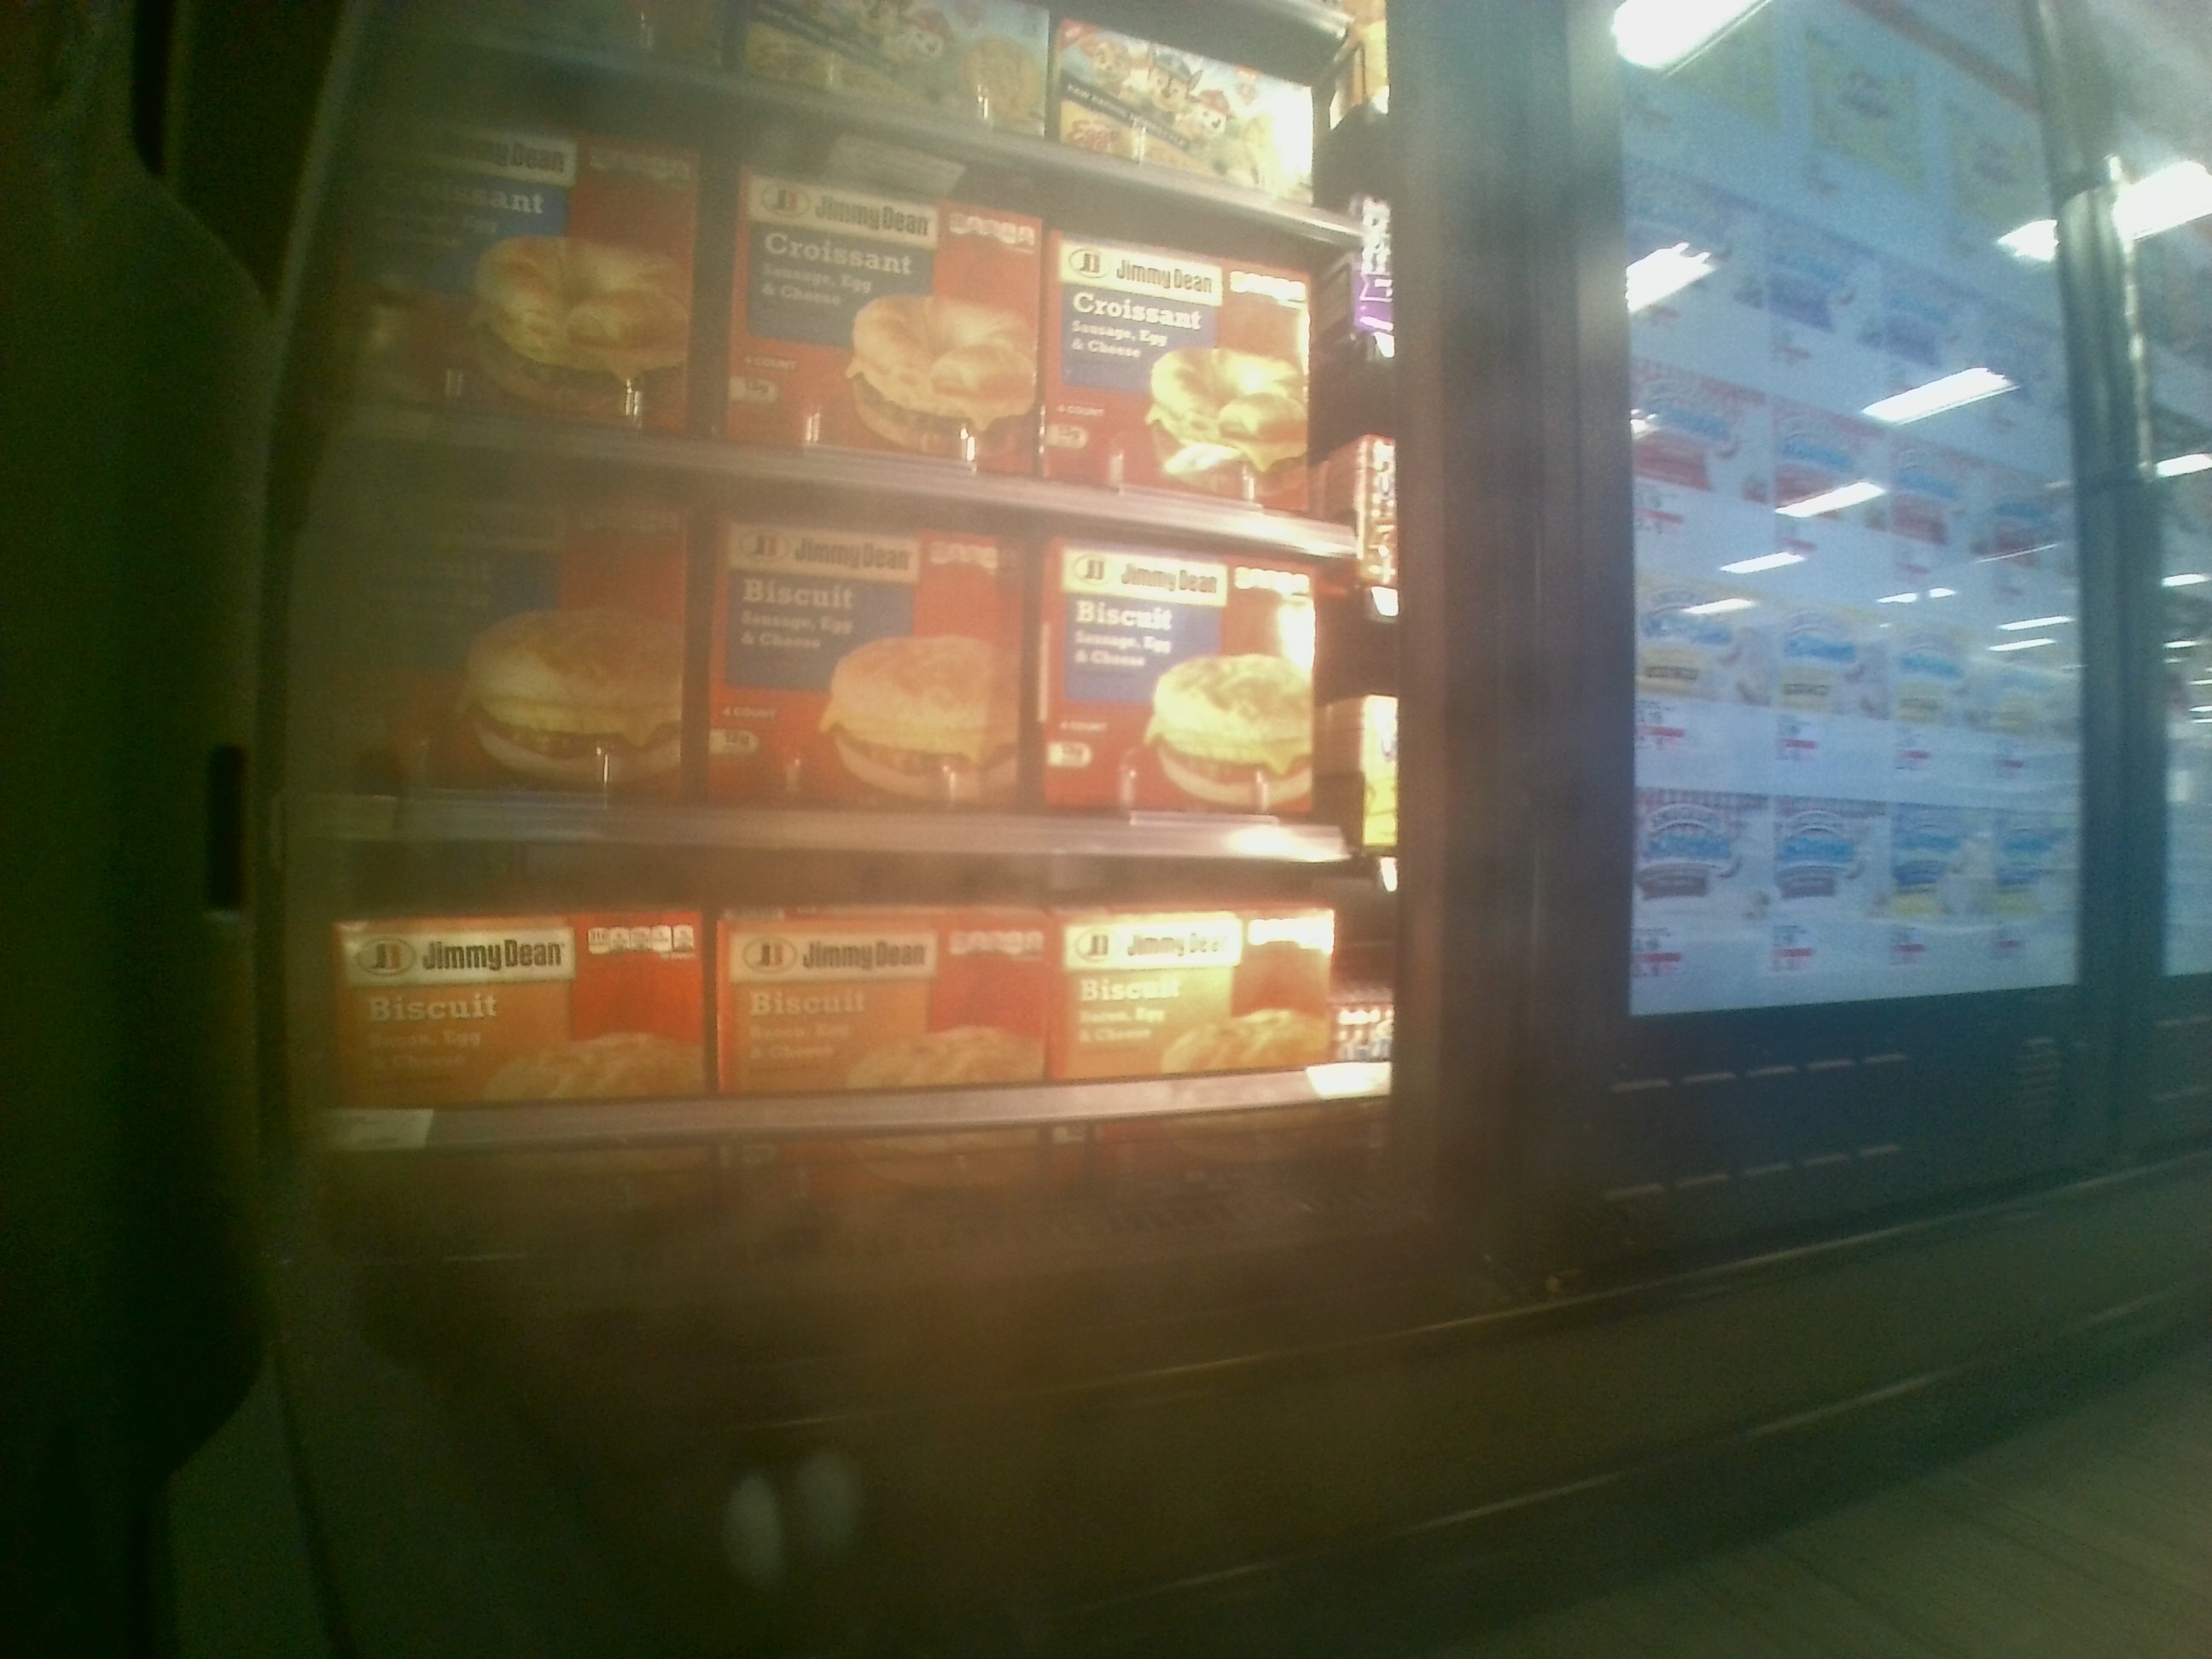shelf: (315, 437, 1345, 838), (319, 843, 1406, 1211)
